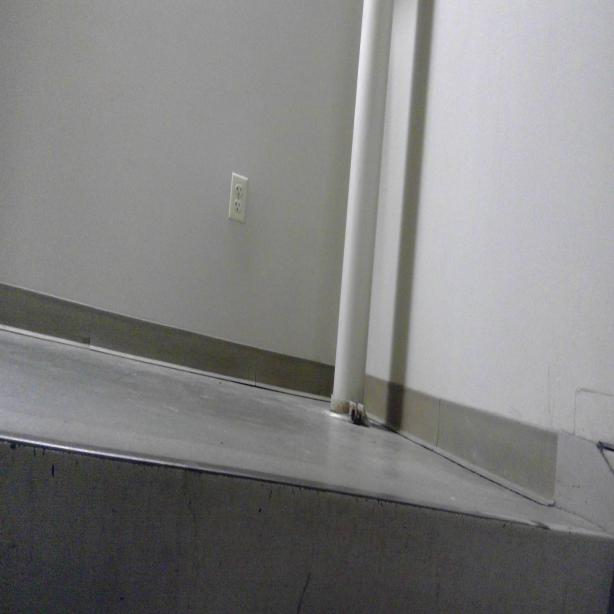typeb: (236, 182, 243, 198), (234, 199, 242, 212)
